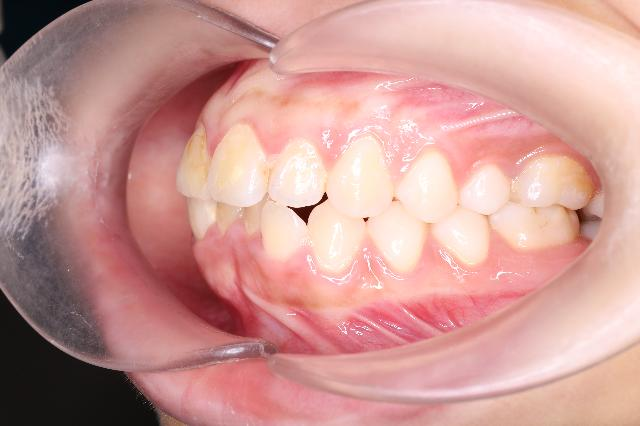canine class II 1/4: (308, 131, 430, 286)
molar class I: (490, 147, 594, 257)
